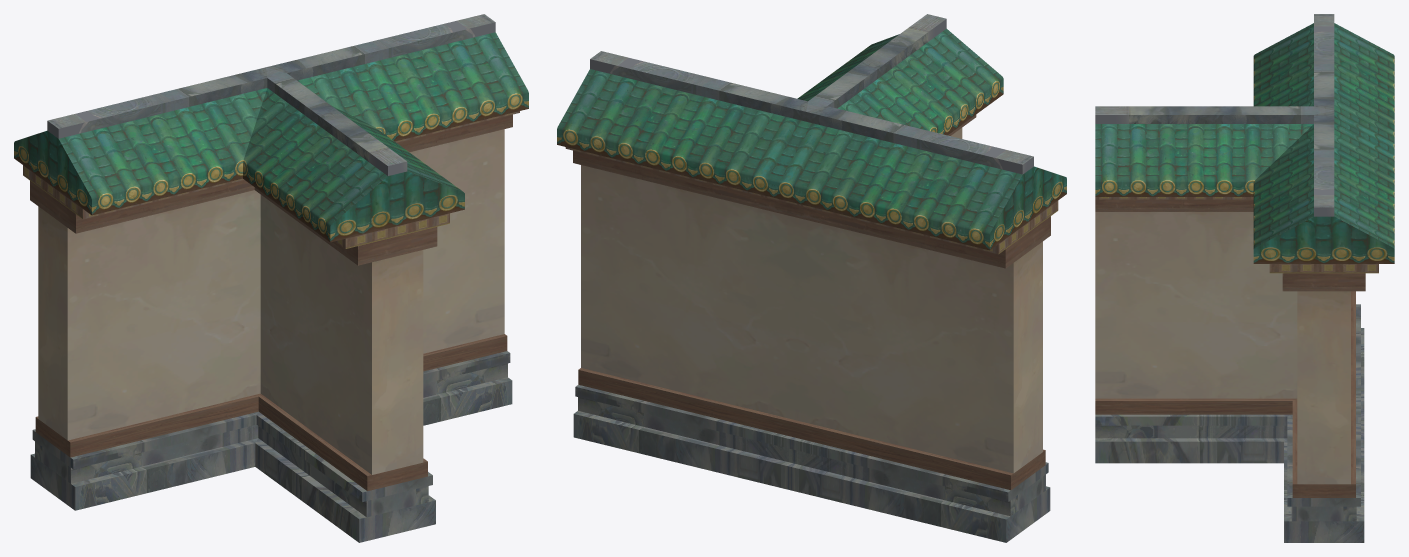
Rendered from Homeworld_Exterior_Ly_Build_Wall_04_Vo.fbx.
The picture shows the model from 3 angles, left to right: view 1: azimuth 30°, elevation 25°; view 2: azimuth 150°, elevation 25°; view 3: azimuth 270°, elevation 25°; orthographic projection. The views are drawn at different scales.
Visible parts, largest first — view 1: Homeworld_Exterior_Ly_Build_Wall_04_Vo; view 2: Homeworld_Exterior_Ly_Build_Wall_04_Vo; view 3: Homeworld_Exterior_Ly_Build_Wall_04_Vo.
Boxes of the visible parts, x1,y1,x2,y2 form: Homeworld_Exterior_Ly_Build_Wall_04_Vo: [14, 14, 528, 542]; Homeworld_Exterior_Ly_Build_Wall_04_Vo: [557, 14, 1066, 542]; Homeworld_Exterior_Ly_Build_Wall_04_Vo: [1095, 14, 1394, 542].
Bounding box in the file's own units: 5 × 4.04 × 3.27.
